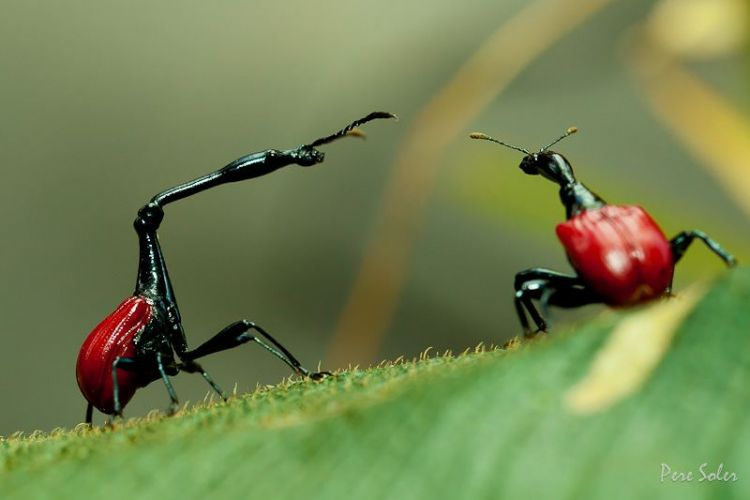dolgonosik: (63, 103, 409, 433), (468, 110, 745, 335)
